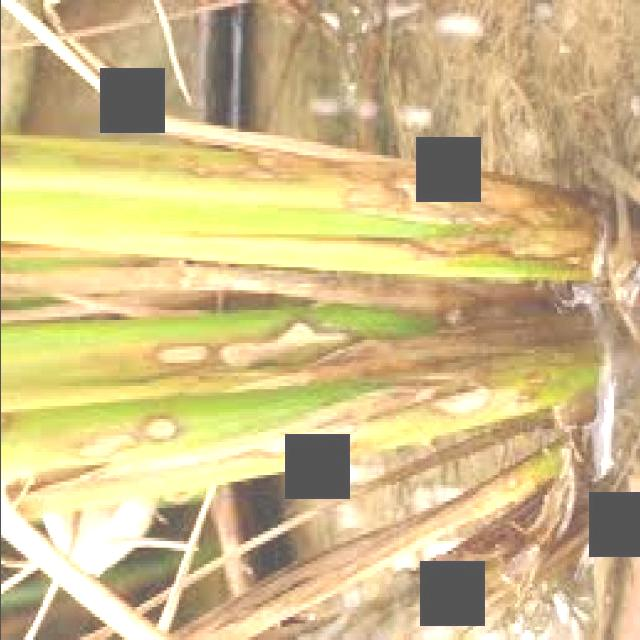Bacterial_Leaf_Blight: (174, 148, 550, 232), (274, 367, 493, 465), (358, 226, 596, 278), (146, 318, 354, 368), (66, 414, 180, 460)
